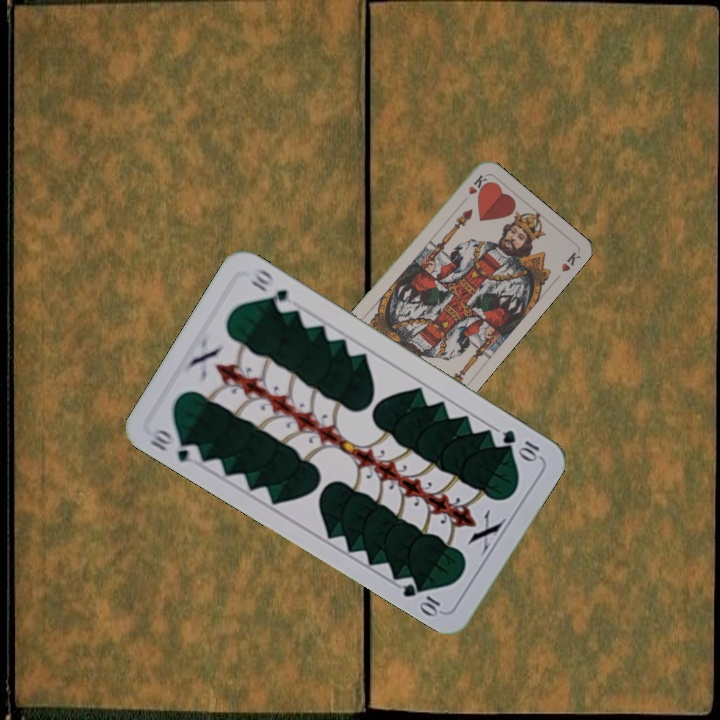G10: (146, 425, 204, 467), (498, 425, 543, 464)
HK: (458, 170, 490, 206)
